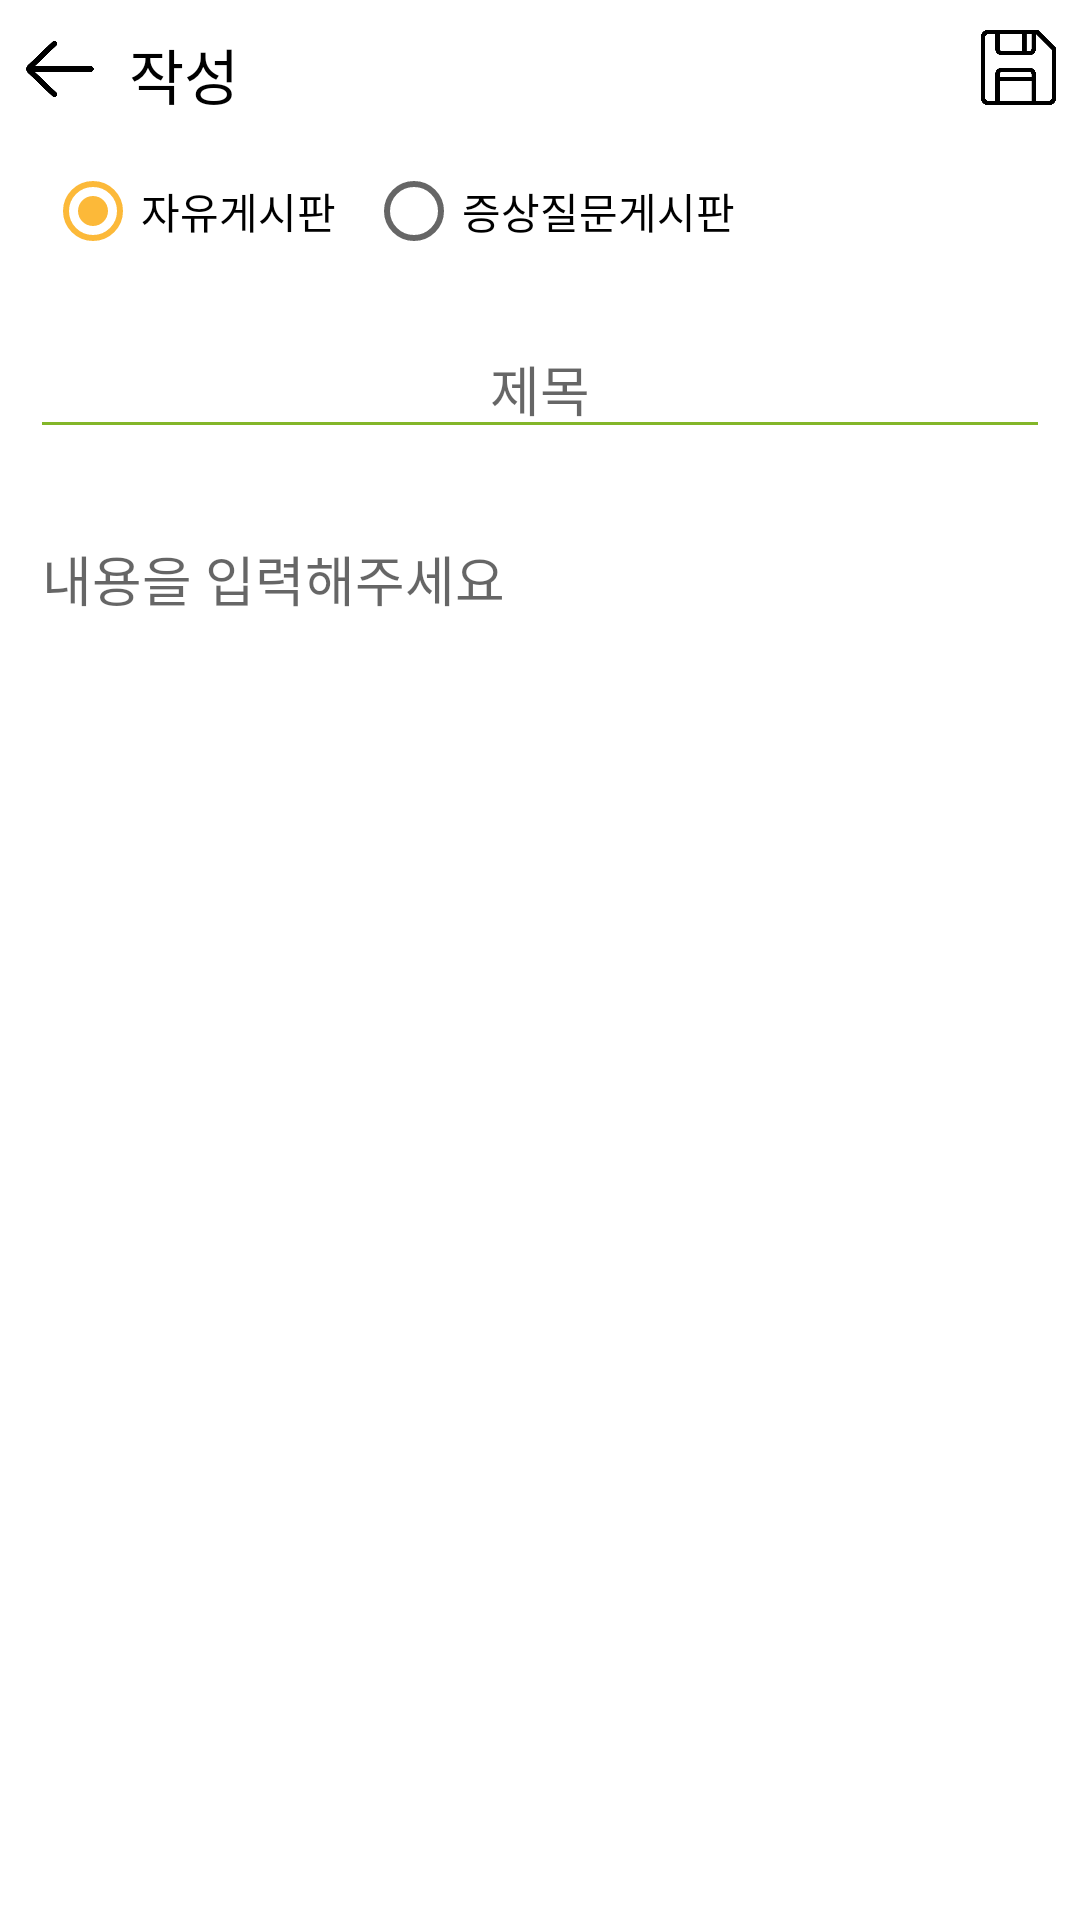

Icon bounding boxes for this 1080px×1920px phone screenshot, format bbox=[x1, y1, x2, y2]:
back: bbox=[26, 41, 94, 97]
save: bbox=[981, 30, 1056, 105]
